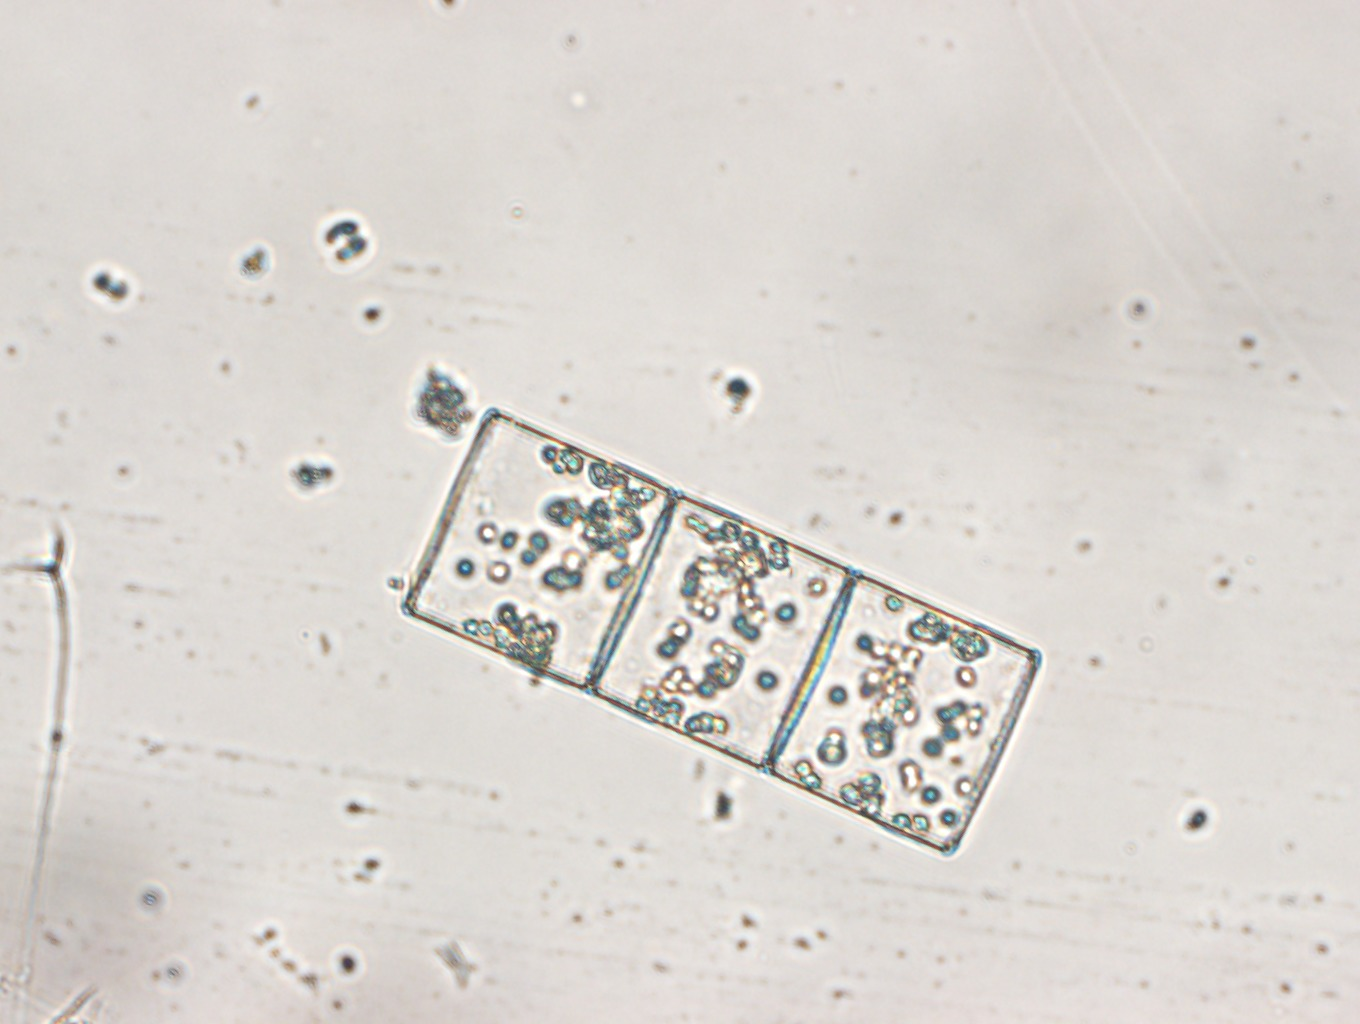guinardia flaccida: (395, 404, 1044, 869)
